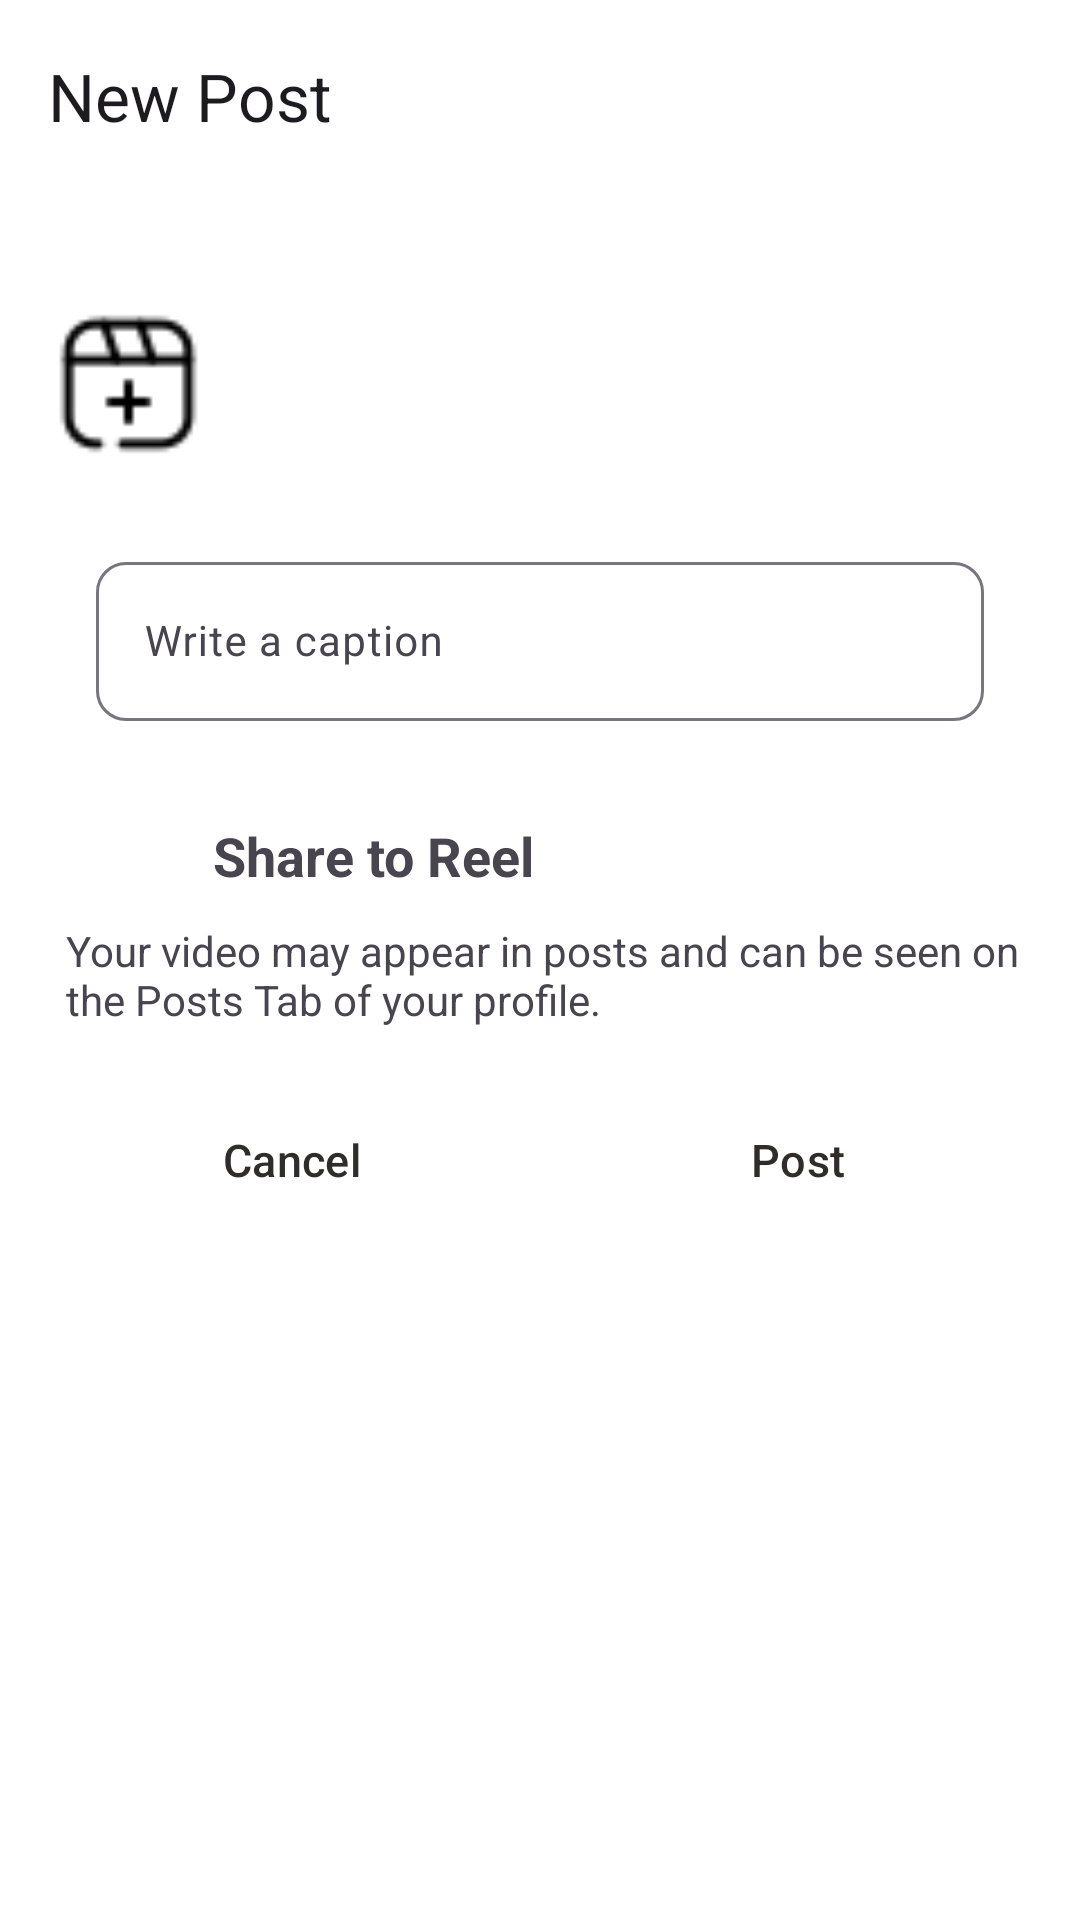

Screen size 1080 × 1920. Icon name, then its center in pixels as [x,y]:
addvideo: [128,383]
